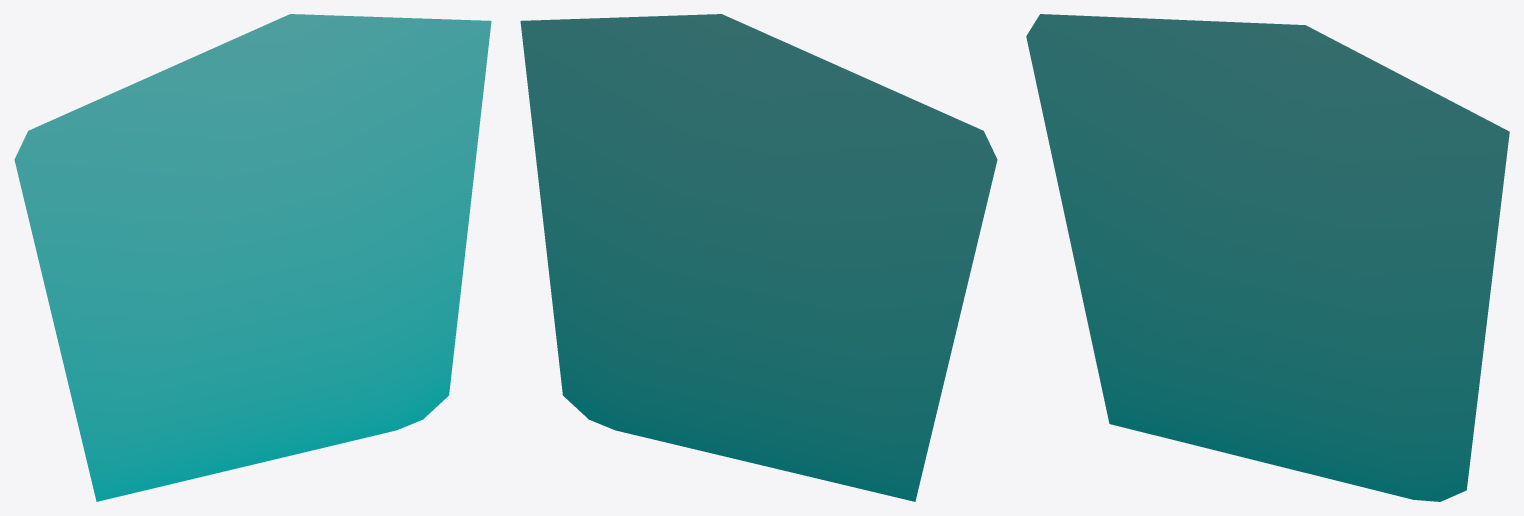
The model's file is Field_Poppy_vmcobd0ja_Low_vmcobd0ja_VarC_LOD2.fbx.
The picture shows the model from 3 angles, left to right: view 1: azimuth 30°, elevation 25°; view 2: azimuth 150°, elevation 25°; view 3: azimuth 330°, elevation 25°; orthographic projection.
Visible parts, largest first — view 1: _9nfp_VarC_LOD4; view 2: _9nfp_VarC_LOD4; view 3: _9nfp_VarC_LOD4.
Part boxes in pixels (<box>): _9nfp_VarC_LOD4: <box>14,14,491,501</box>; _9nfp_VarC_LOD4: <box>520,14,997,501</box>; _9nfp_VarC_LOD4: <box>1026,14,1509,501</box>.
Bounding box in the file's own units: 77.01 × 68.24 × 0.
